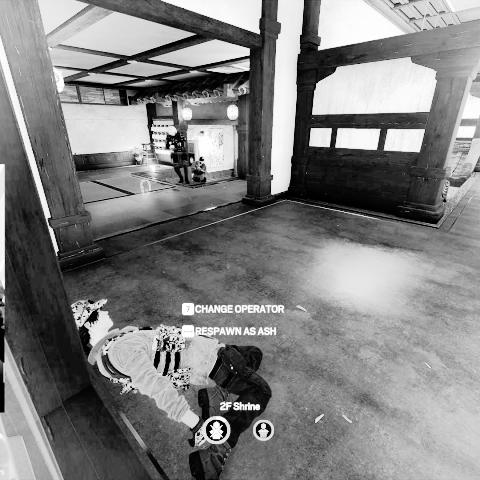Character: (71, 295, 273, 480), (165, 126, 190, 185), (190, 156, 209, 184)
Head: (73, 299, 114, 346), (168, 126, 177, 137), (198, 156, 206, 163)
